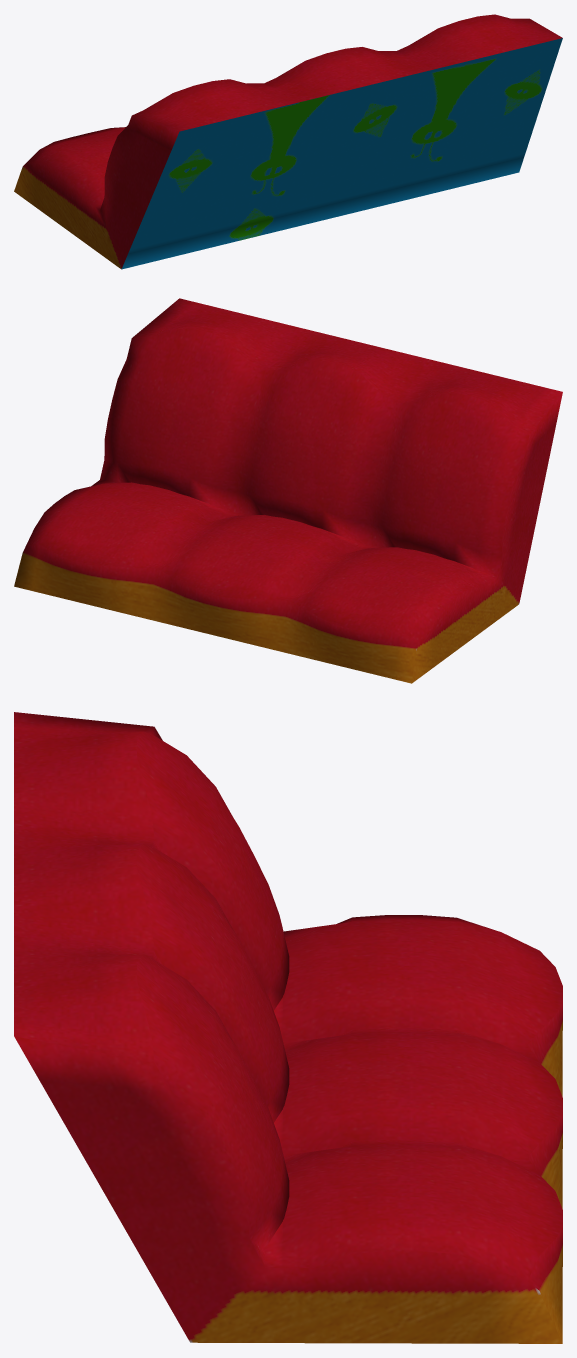
Rendered from Sillon.obj.
3 renders of one model, top to bottom at view 1: azimuth 30°, elevation 25°; view 2: azimuth 150°, elevation 25°; view 3: azimuth 270°, elevation 25°, orthographic. The views are drawn at different scales.
Visible parts, largest first — view 1: Sillon4:Material_014; view 2: Sillon4:Material_014; view 3: Sillon4:Material_014.
Boxes of the visible parts, x1,y1,x2,y2 form: Sillon4:Material_014: [14, 14, 562, 269]; Sillon4:Material_014: [14, 298, 562, 683]; Sillon4:Material_014: [14, 712, 562, 1343].
Size of the model in its own units: 4.28 by 1.87 by 2.95.
1 material, 1 textured.
